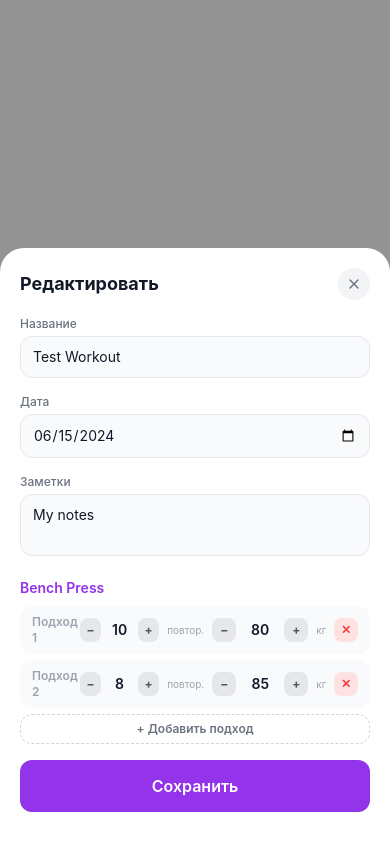
EditWorkoutSheet › increments reps when + is clicked
# First + should be for reps of first set
Click the 1st button "+".
click(149, 630)  # box [138, 618, 159, 642]
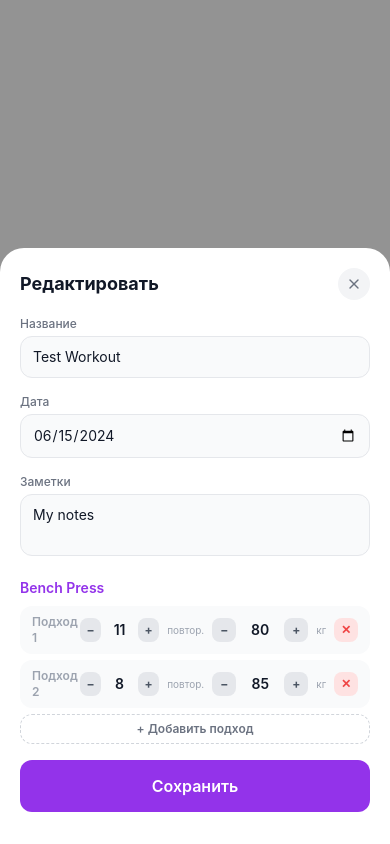
Expected: the text "11" is shown, [114, 621, 126, 638]
